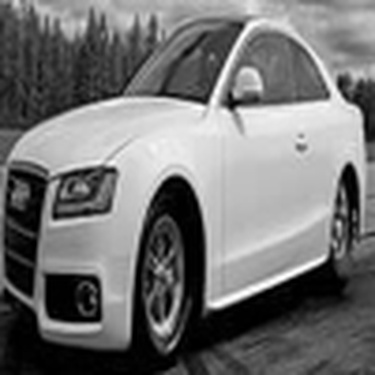car: (5, 1, 371, 368)
